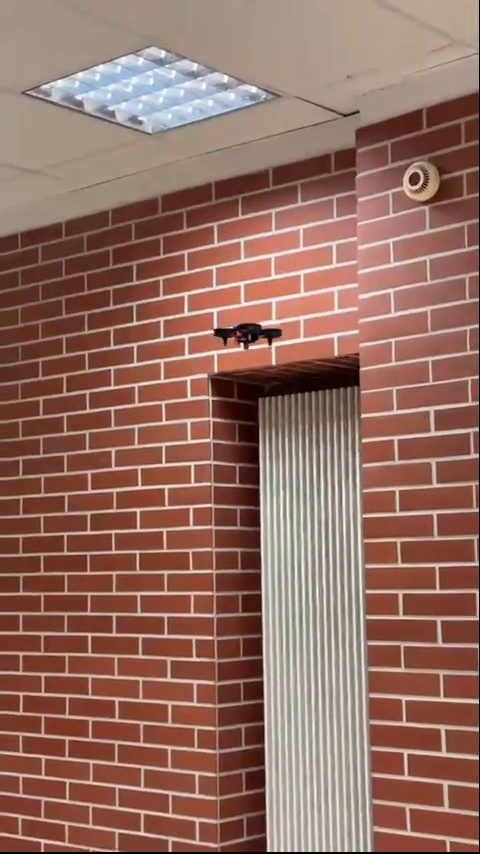drone: (209, 321, 286, 344)
